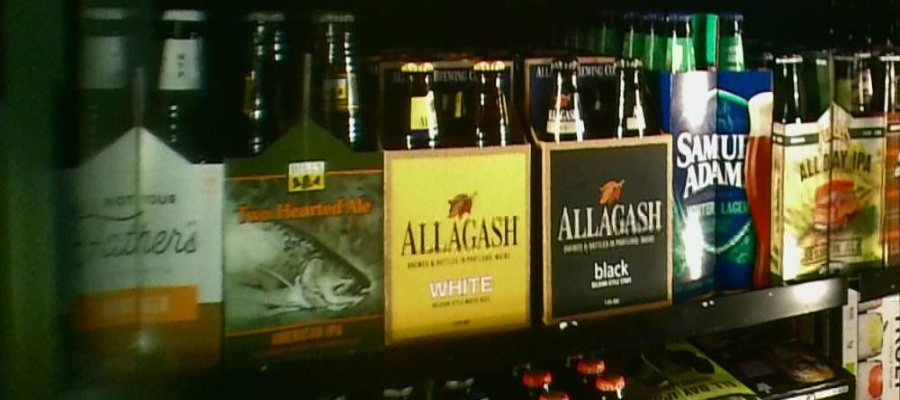bottle: (56, 4, 223, 381), (223, 1, 384, 368), (384, 47, 529, 352), (526, 55, 669, 316), (668, 7, 771, 308), (779, 44, 885, 278)
